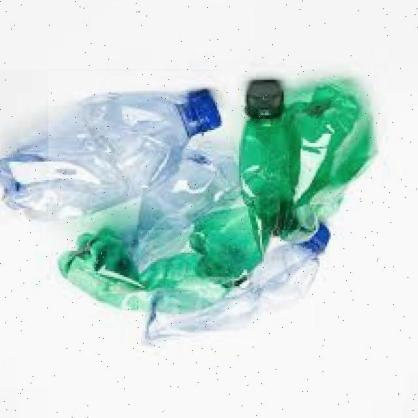bottle: (47, 72, 301, 320), (0, 69, 220, 225), (138, 230, 338, 344)
cap: (184, 88, 226, 133), (246, 79, 286, 118)
